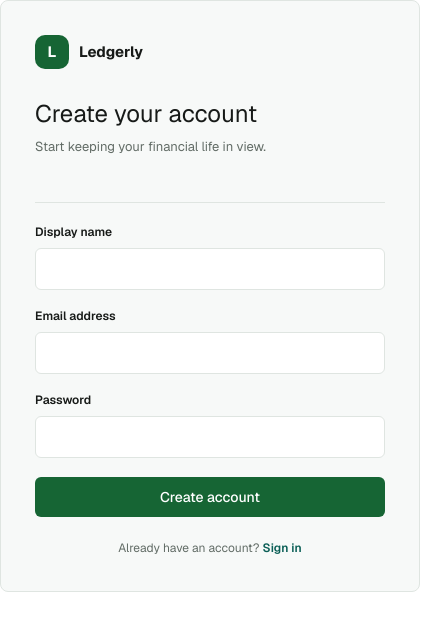
Test case: authentication forms › starts registration and gives the same confirmation message
The image size is (437, 644).
Type "Ada Ledger" into the field labelled "Display name".
click(210, 269); type("Ada Ledger")  # box [35, 248, 385, 290]
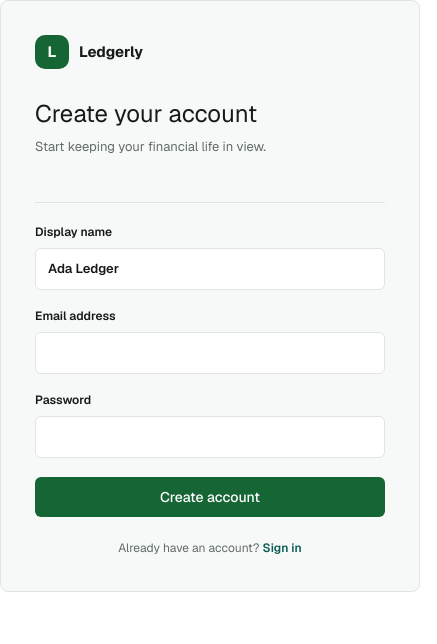
Type "ada@example.com" into the field labelled "Email address".
click(210, 353); type("ada@example.com")  # box [35, 332, 385, 374]
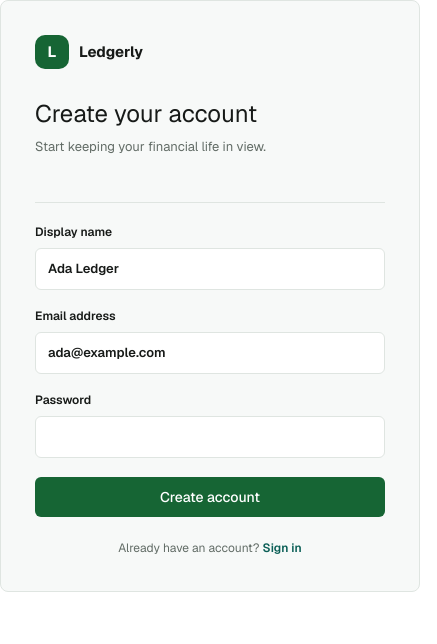
Type "password123" into the password field labelled "Password".
click(210, 437); type("password123")  # box [35, 416, 385, 458]
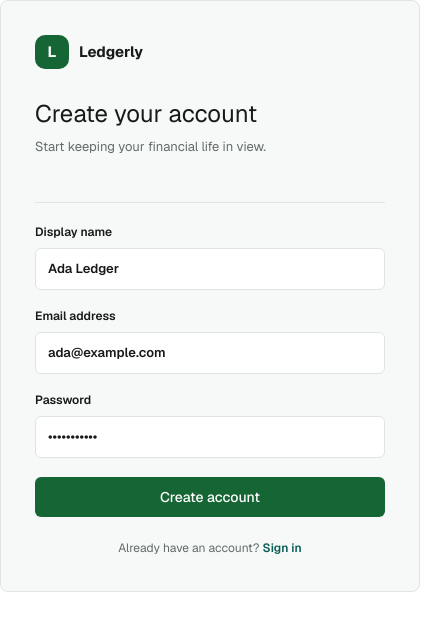
Click the button "Create account".
click(210, 497)  # box [35, 477, 385, 517]
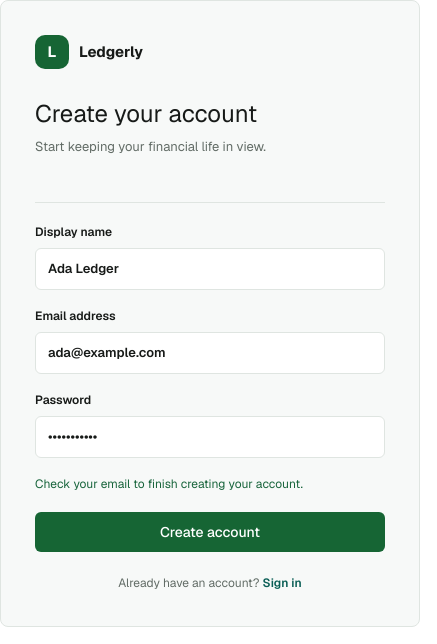
Now the message reads "Check your email to finish creating your account.", box [35, 476, 303, 492]
